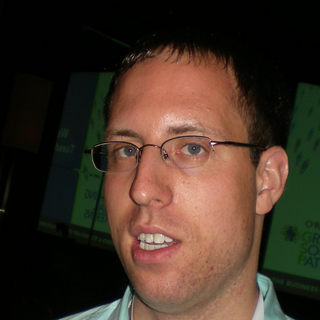eye: (169, 134, 217, 167), (104, 140, 149, 164)
